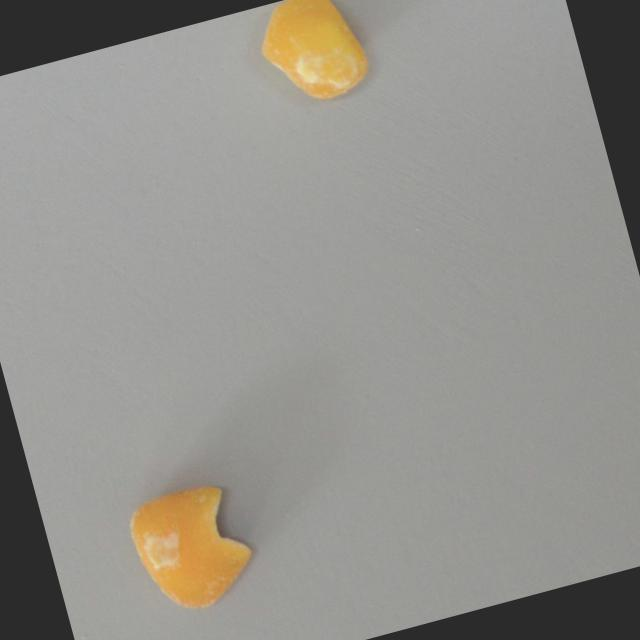pelicula: (110, 464, 271, 629), (243, 0, 379, 117)
